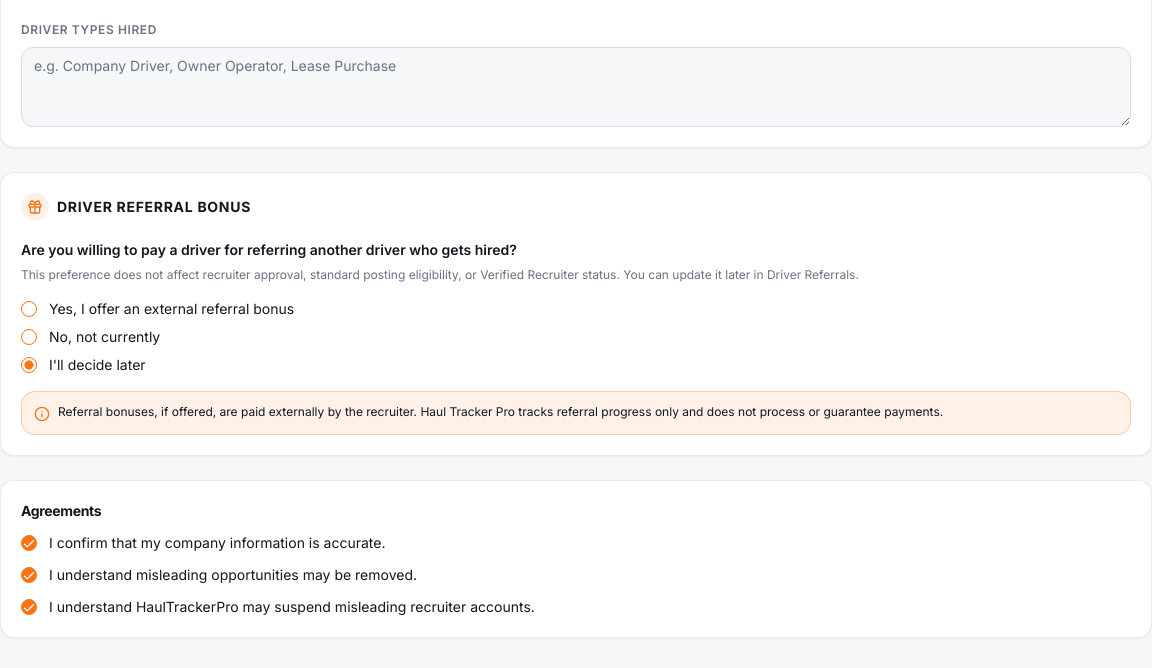
Scenario: Phase 1Q-A — Recruiter onboarding referral preference (component) › Payment trigger sentinel: Not specified maps to payment_trigger: null
Later steps or results of the test are not shown.
(page scrolled)
Click the radio button with test id "referral-decision-yes" at (29, 309), box x1=21 y1=301 x2=37 y2=317
(page scrolled)
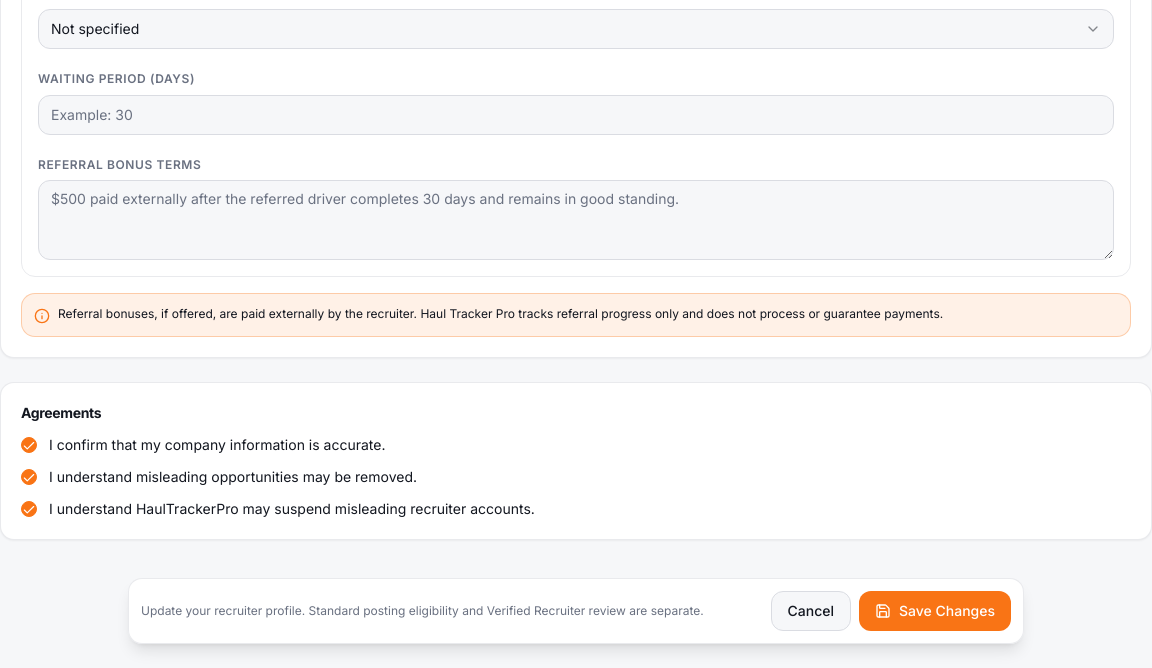
Check: the dropdown with test id "ref-trigger" reads "Not specified", box x1=38 y1=9 x2=1114 y2=49
